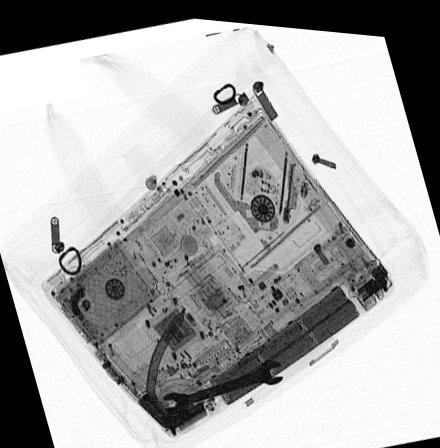Wrench: (161, 354, 284, 413)
